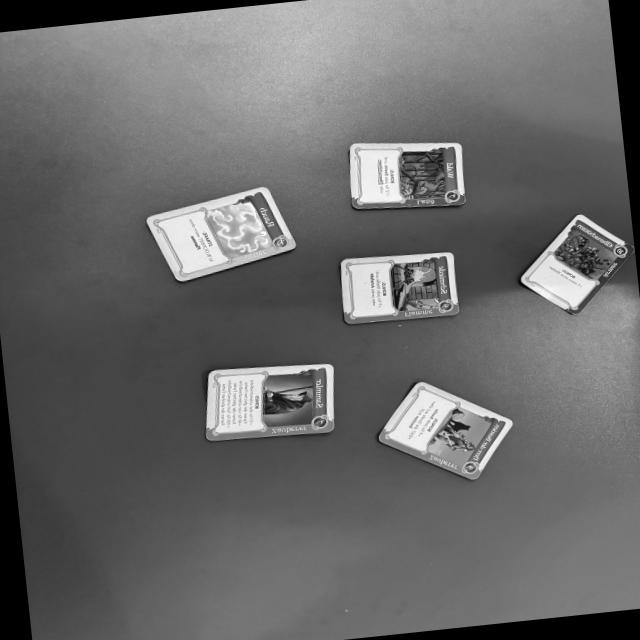Beast Master: (374, 377, 516, 483)
Collector: (203, 362, 335, 443)
Elven Archers: (516, 210, 634, 318)
Forest: (346, 139, 470, 210)
Forge: (337, 250, 458, 324)
Smoke: (137, 182, 300, 283)
